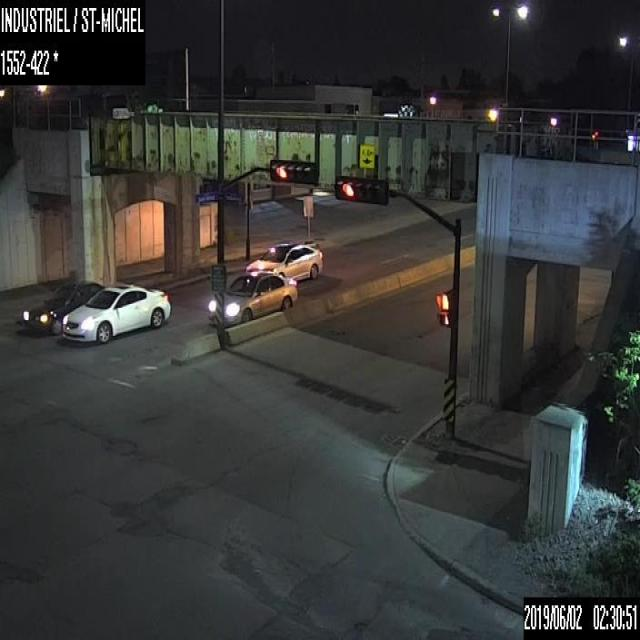vehicle: (61, 284, 171, 342), (208, 270, 296, 325), (21, 277, 105, 334), (245, 242, 322, 279)
